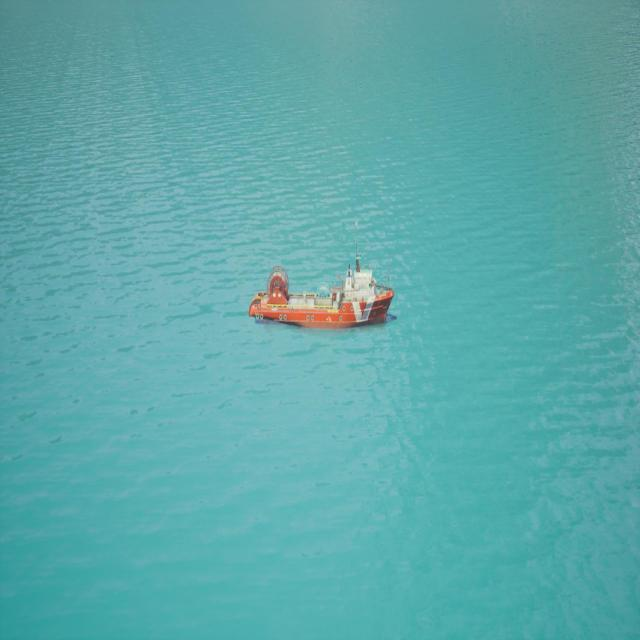tug boat: (249, 252, 397, 333)
